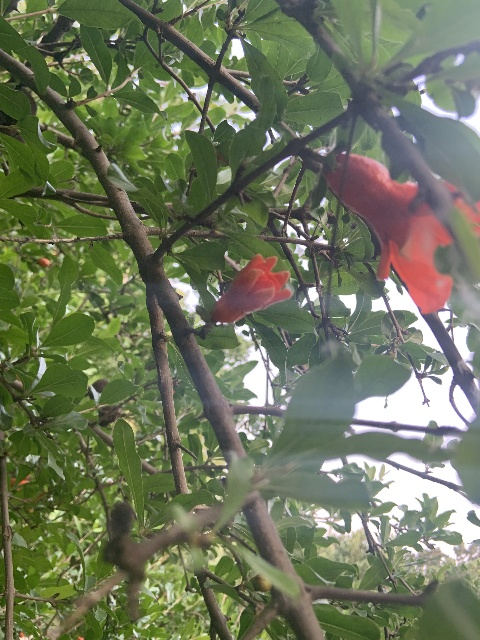bud: (37, 257, 50, 267)
flower: (325, 152, 479, 314), (210, 253, 292, 323)
